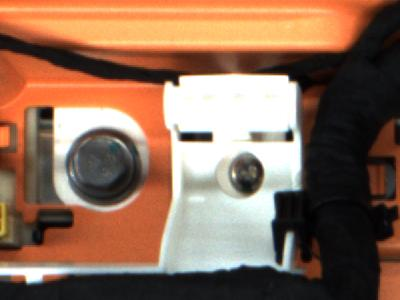nut_b: (54, 127, 154, 212)
